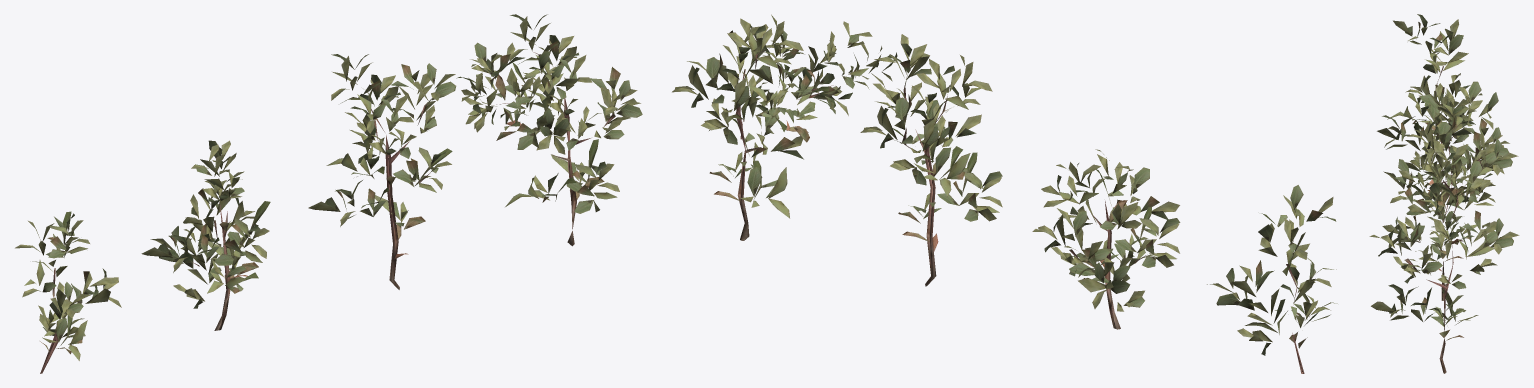
The model's file is shrub.glb.
3 views of the same model, side by side, from view 1: azimuth 30°, elevation 25°; view 2: azimuth 150°, elevation 25°; view 3: azimuth 270°, elevation 25° (orthographic). The views are drawn at different scales.
Parts seen in each view (by area): view 1: shrub_04; view 2: shrub_04; view 3: shrub_04.
Boxes of the visible parts, x1,y1,x2,y2 form: shrub_04: (15,14,642,373); shrub_04: (672,14,1337,373); shrub_04: (1369,14,1519,373).
Bounding box in the file's own units: 0.5837 × 0.2185 × 0.1461.
1 material, 1 textured.
